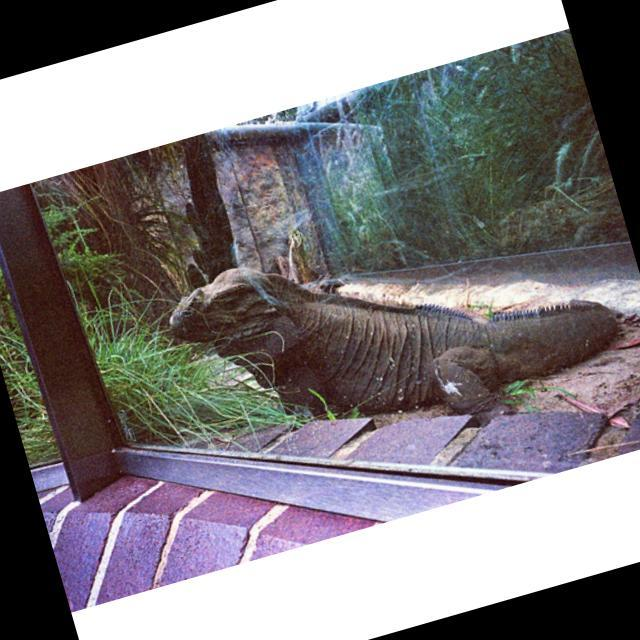KomodoDragon: (160, 165, 640, 498)
